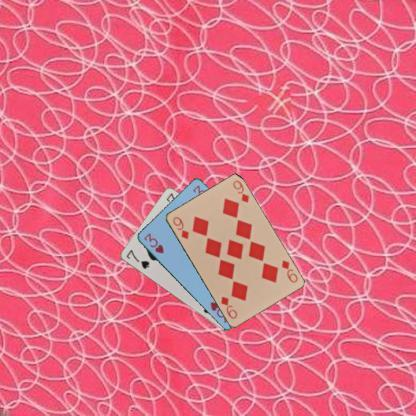3h: (141, 230, 167, 255)
7s: (124, 246, 150, 270)
9d: (278, 257, 298, 284), (170, 214, 190, 240)
